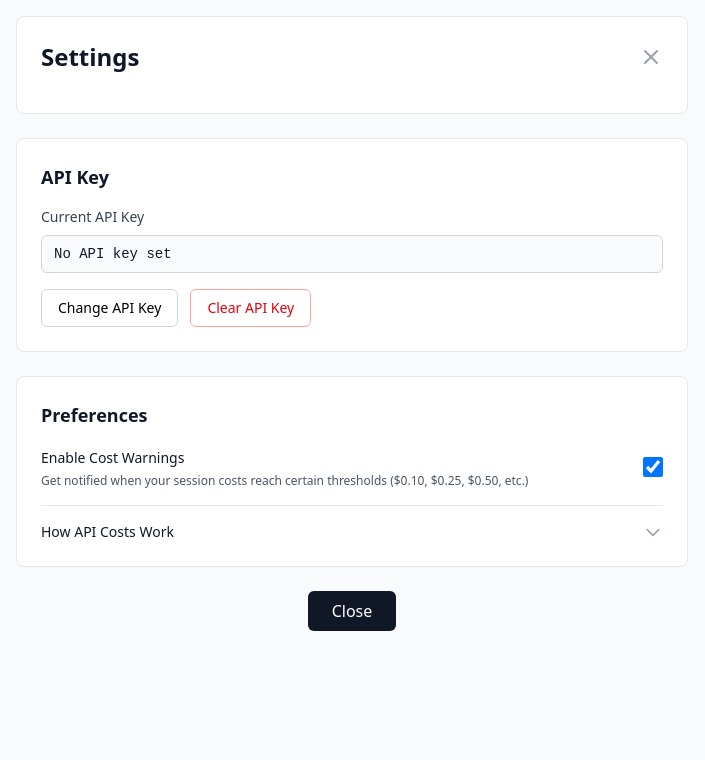
Test: Settings Component › Change API Key › should show change API key form when button is clicked
Click the button "Change API Key": (110,308) [41,289,178,327]
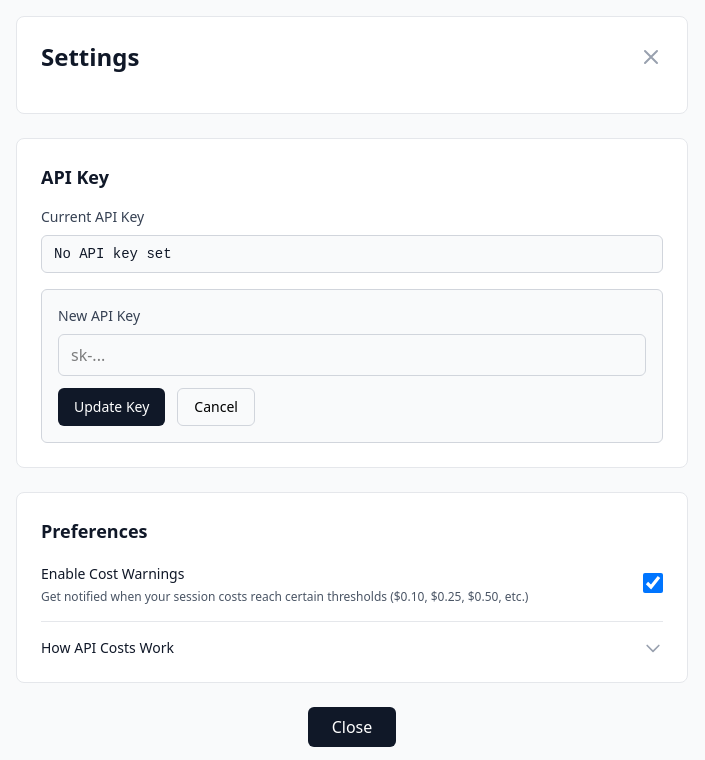
Check: the text "New API Key" is shown, box [58,306,140,325]
Check: the password field with placeholder "sk-..." is shown, box [58,334,646,376]
